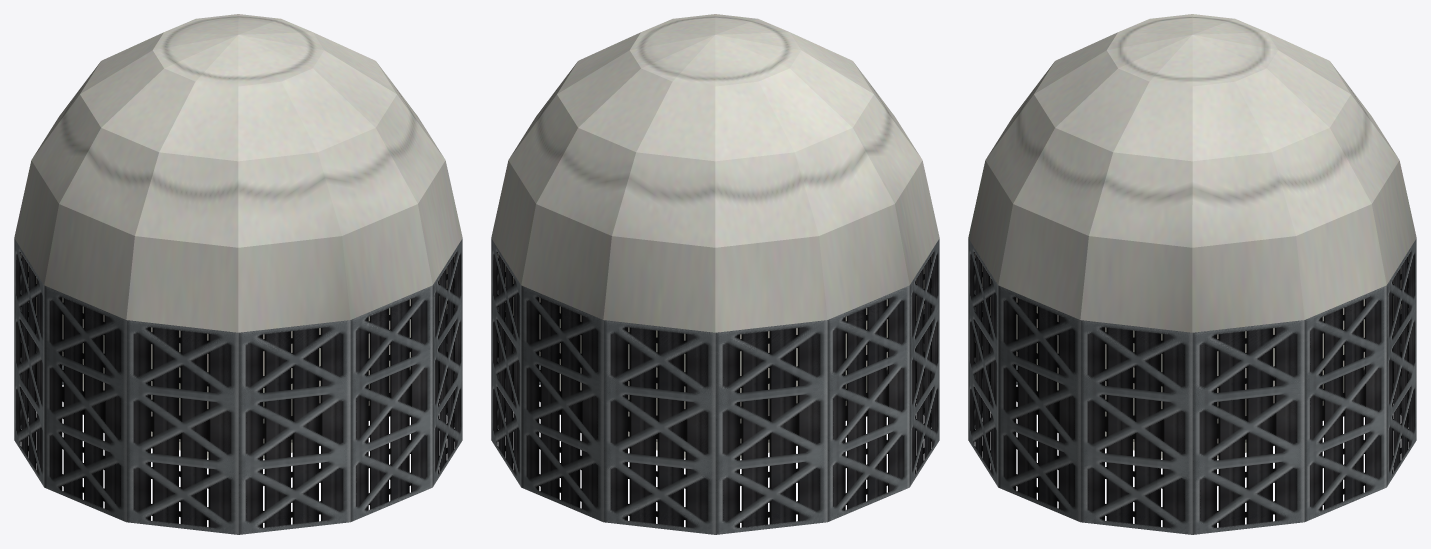
File: Tank.fbx
3 renders of one model, left to right at view 1: azimuth 30°, elevation 25°; view 2: azimuth 150°, elevation 25°; view 3: azimuth 270°, elevation 25°, orthographic.
Parts seen in each view (by area): view 1: Tank; view 2: Tank; view 3: Tank.
Part boxes in pixels (x1,y1,x2,y2): Tank: [14, 14, 462, 534]; Tank: [491, 14, 939, 534]; Tank: [968, 14, 1416, 534].
Size of the model in its own units: 128 by 128 by 128.
